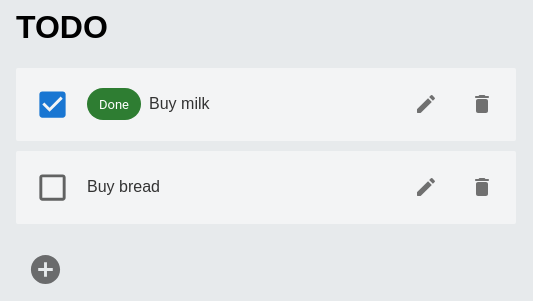
Test: TodoApp › should set todo item to done after checking checkbox
Click the checkbox with test id "todo-checkbox-1". click: [52, 187]
box: 35,170 -> 70,205
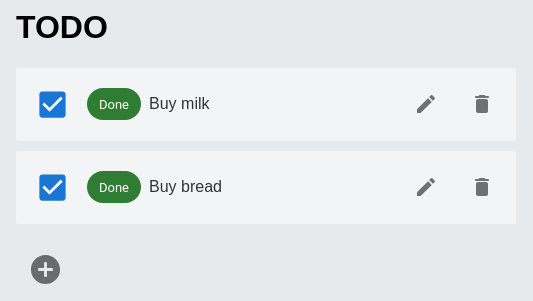
Expected: the checkbox with test id "todo-checkbox-1" is checked, 35,170 -> 70,205
Expected: the element with test id "todo-list-item-chip-done-1" is shown, 87,171 -> 141,203
